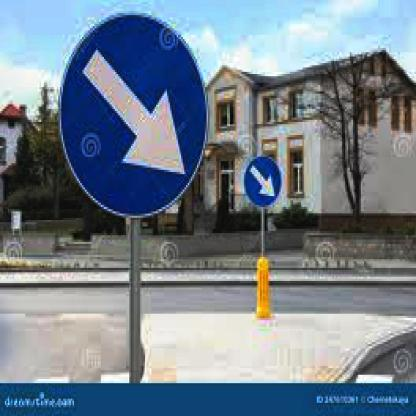Keep right: (62, 14, 209, 217), (241, 152, 286, 212)
